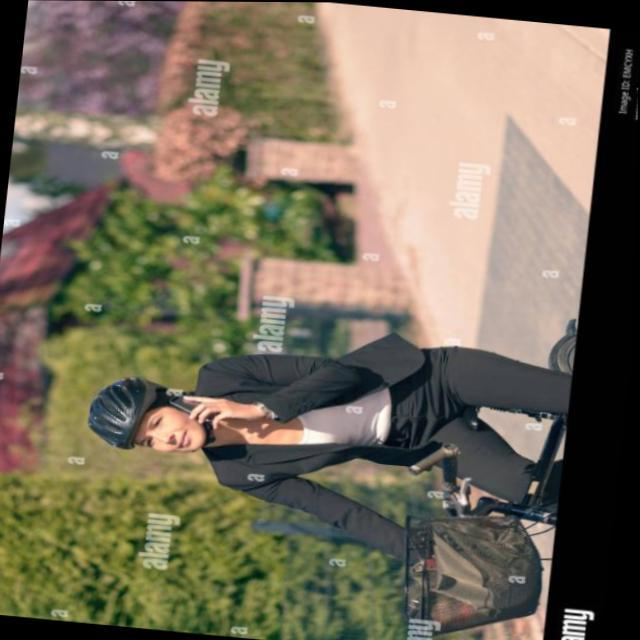use_mobile: (167, 386, 286, 426)
with_helmet: (84, 380, 211, 449)
